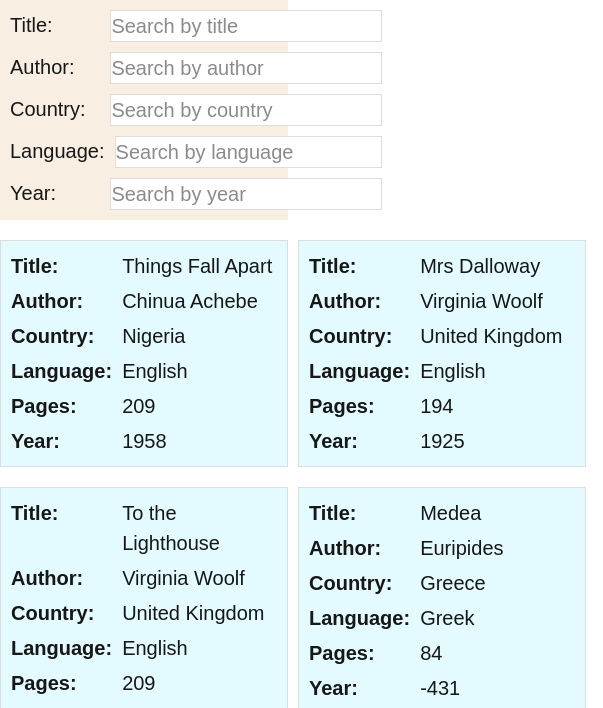
BookSearch › searching by each field alone › modifying the title field › should filter books on the author get
In the field with test id "title": (246, 26) top-left (110, 10), bottom-right (382, 42), type "dea"
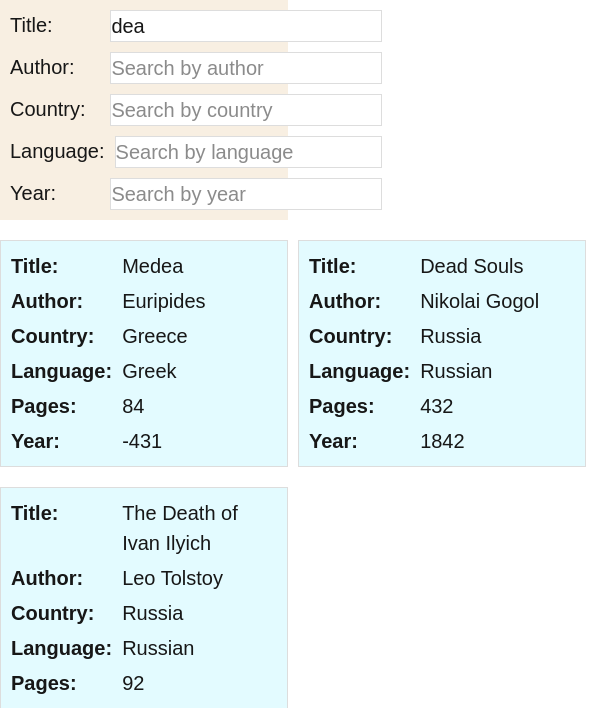
Expected: the text "Euripides" is shown, top-left (122, 290), bottom-right (206, 312)
Expected: the text "Nikolai Gogol" is shown, top-left (420, 290), bottom-right (539, 312)
Expected: the text "The Death of Ivan Ilyich" is shown, top-left (122, 502), bottom-right (238, 554)
